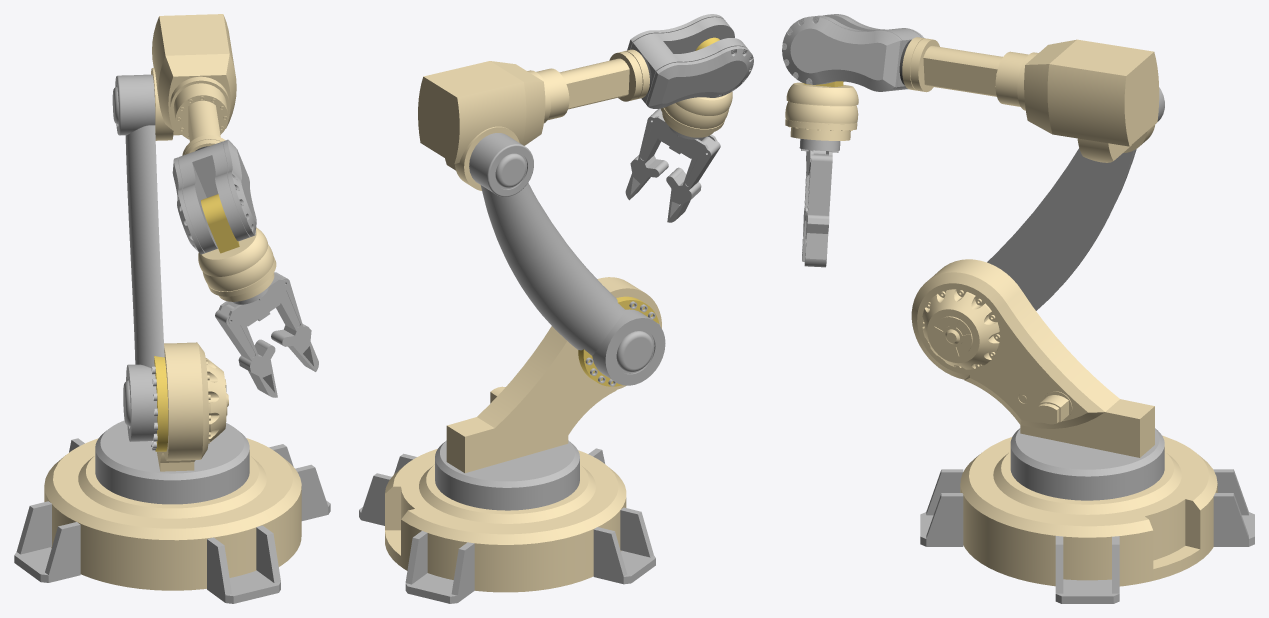
File: industrial_robotic_arm.glb
The picture shows the model from 3 angles, left to right: view 1: azimuth 30°, elevation 25°; view 2: azimuth 150°, elevation 25°; view 3: azimuth 270°, elevation 25°; orthographic projection. The views are drawn at different scales.
Parts seen in each view (by area): view 1: Body1 (×19); view 2: Body1 (×18); view 3: Body1 (×16).
Part boxes in pixels (<box>): Body1 (×19): <box>14,14,330,603</box>; Body1 (×18): <box>359,14,753,603</box>; Body1 (×16): <box>782,14,1254,603</box>.
Bounding box in the file's own units: 0.3905 × 0.6327 × 0.5518.
